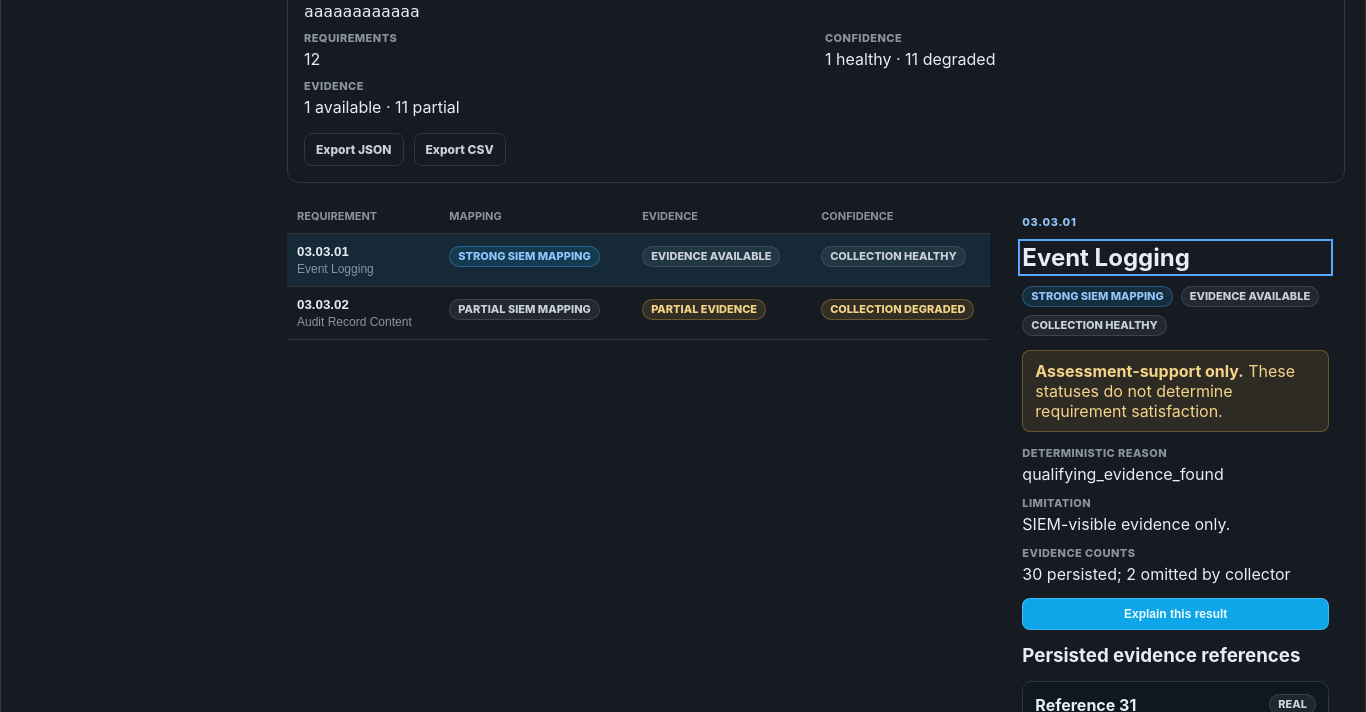
Test case: provider failure leaves deterministic detail visible and stale selection discards queued response
(page scrolled)
Step 1. Click the button "Explain this result" → (1176, 614), box [1022,598,1329,630]
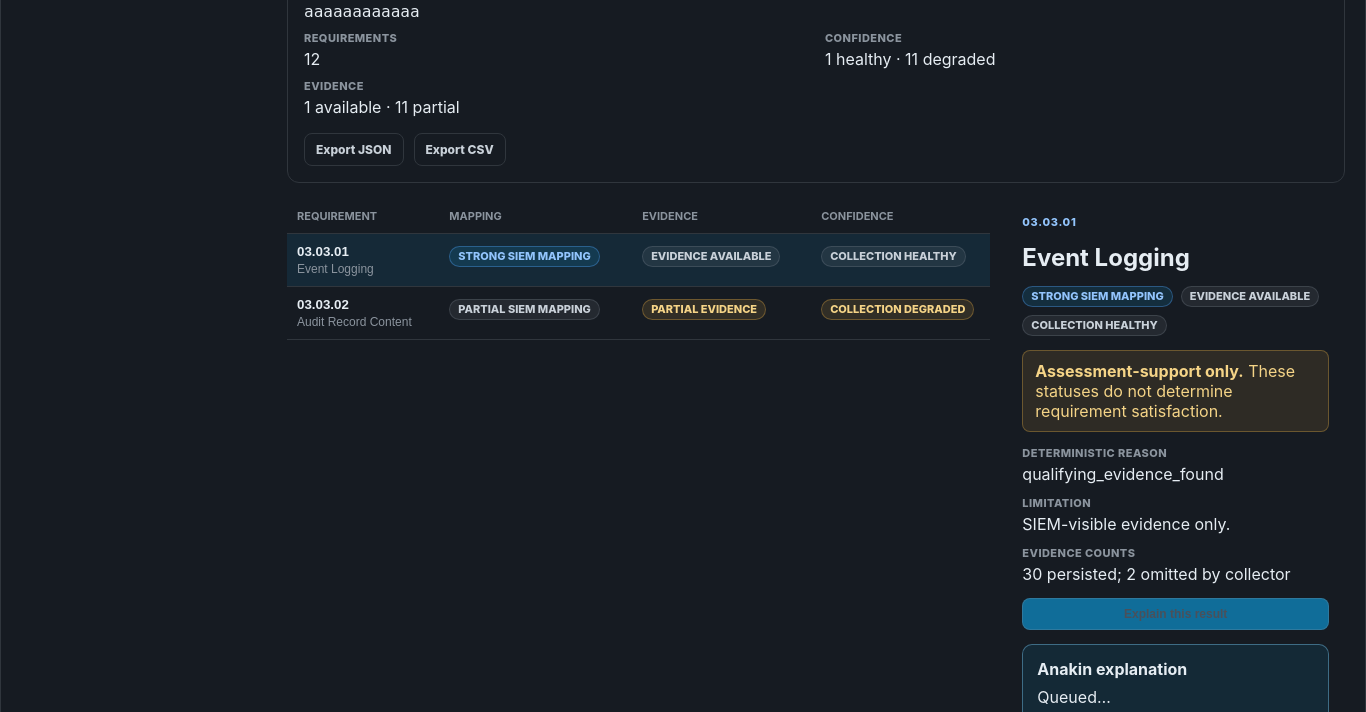
Check: the text "Queued…" is shown, box [1037,687,1111,707]
Step 2. Click the button "03.03.02 Audit Record Content" → (363, 313), box [297,297,429,329]
(page scrolled)
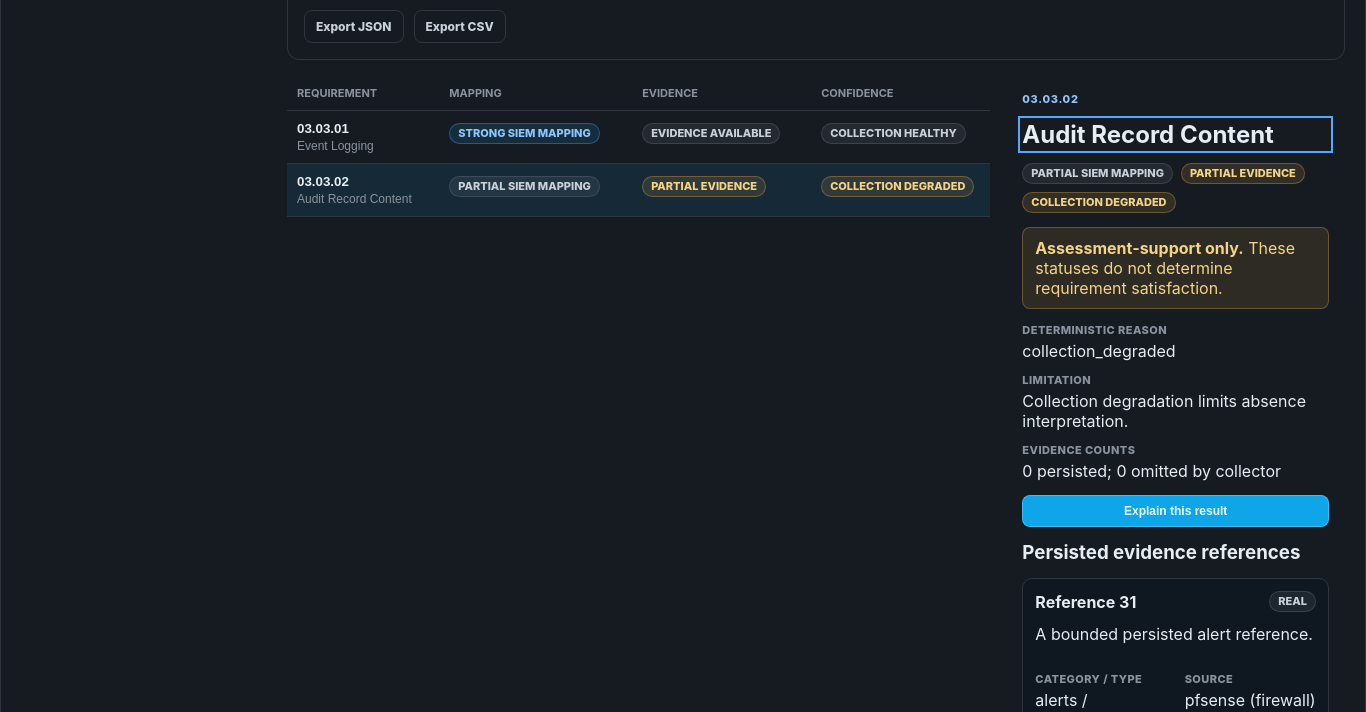
Check: the text "Audit Record Content" is shown, box [297,192,429,206]
Check: the text "Collection degradation limits absence interpretation." is shown, box [1022,391,1329,431]
Step 3. Click the button "Explain this result" → (1176, 511), box [1022,495,1329,527]
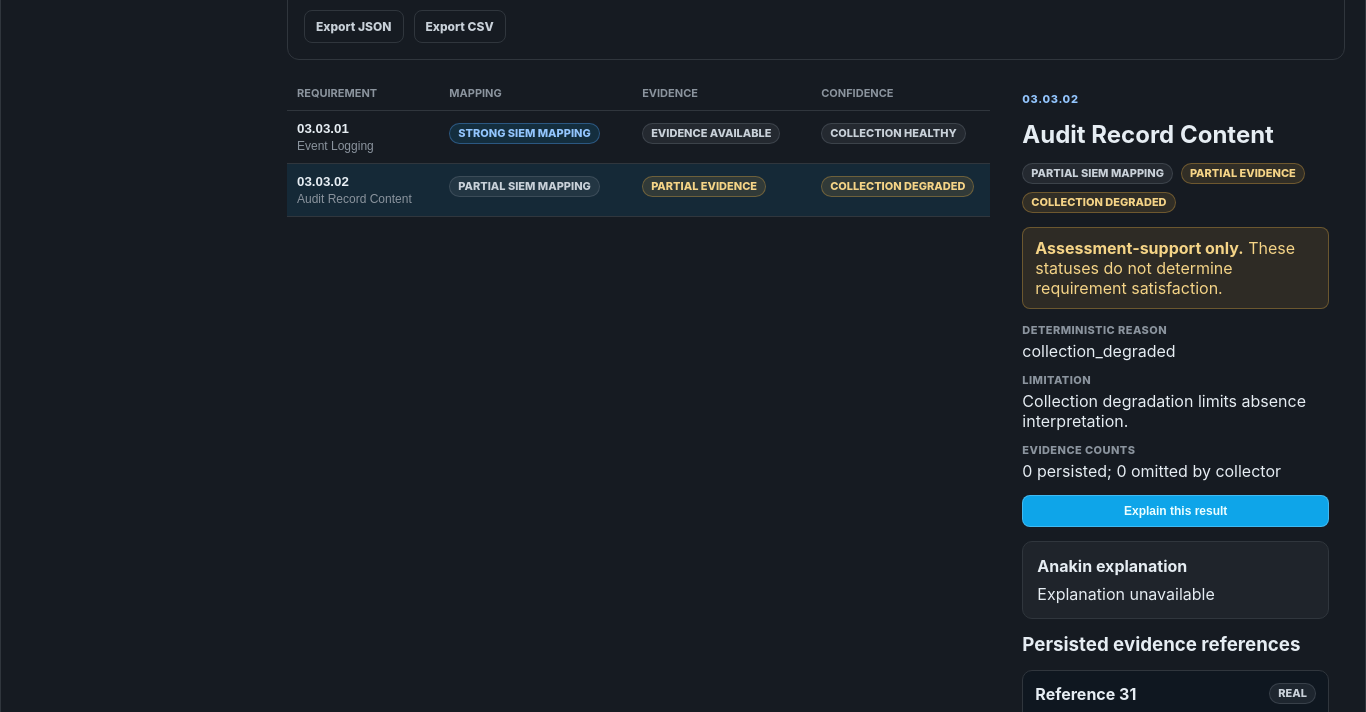
Check: the text "Collection degradation limits absence interpretation." is shown, box [1022,391,1329,431]
Check: the text "Explanation unavailable" is shown, box [1037,584,1215,604]
